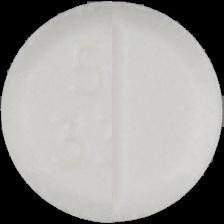0054-8740: (0, 0, 224, 224)
